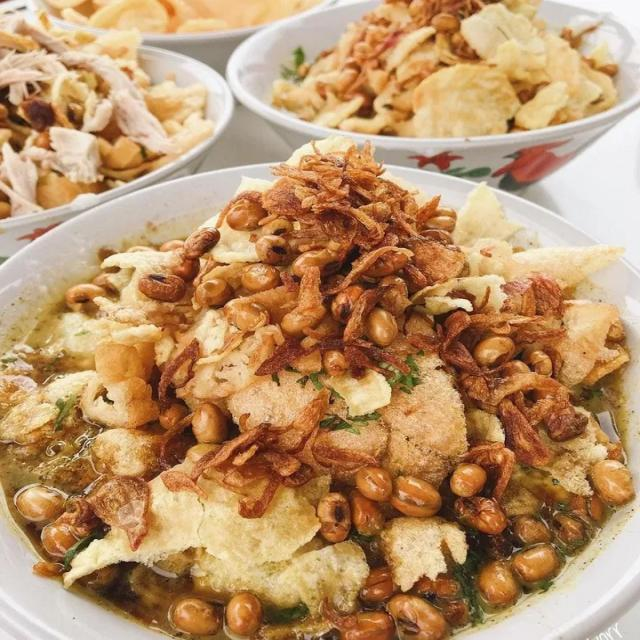bubur ayam: (4, 138, 631, 640), (271, 0, 626, 137), (0, 27, 211, 215)
mangkuk: (0, 165, 640, 640), (226, 3, 636, 194), (2, 42, 235, 242)
